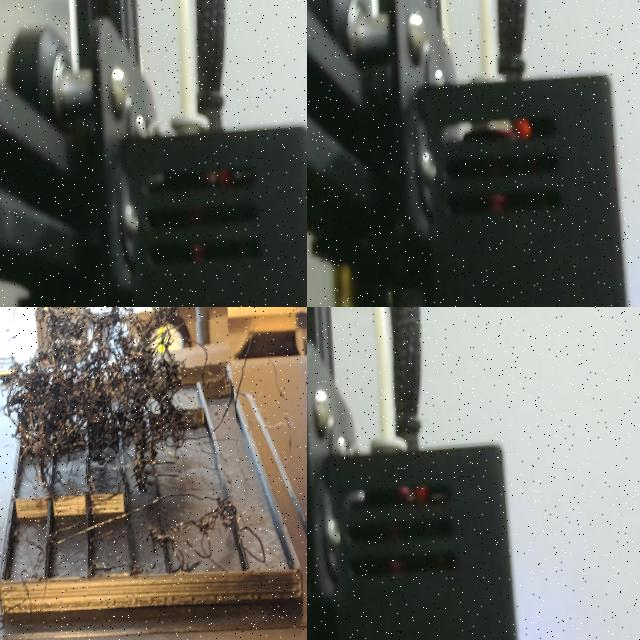spaghetti: (0, 307, 241, 499), (135, 490, 284, 596)
